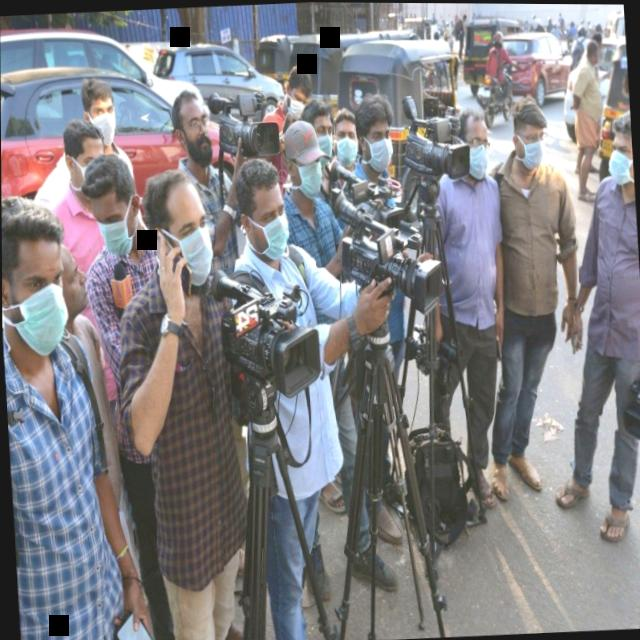Mask: (1, 196, 70, 361), (141, 167, 217, 298), (83, 148, 144, 269), (230, 158, 293, 265), (351, 90, 399, 173), (280, 117, 325, 205), (450, 101, 498, 176), (600, 103, 635, 198), (78, 74, 121, 150), (295, 99, 337, 165), (507, 105, 549, 171), (274, 65, 316, 119), (331, 107, 360, 171)
NO-Mask: (46, 229, 93, 334), (165, 82, 215, 169)
